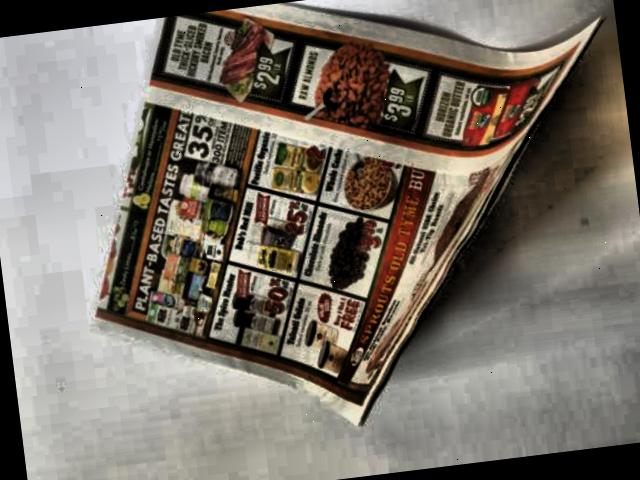Paper: (56, 0, 640, 464)
